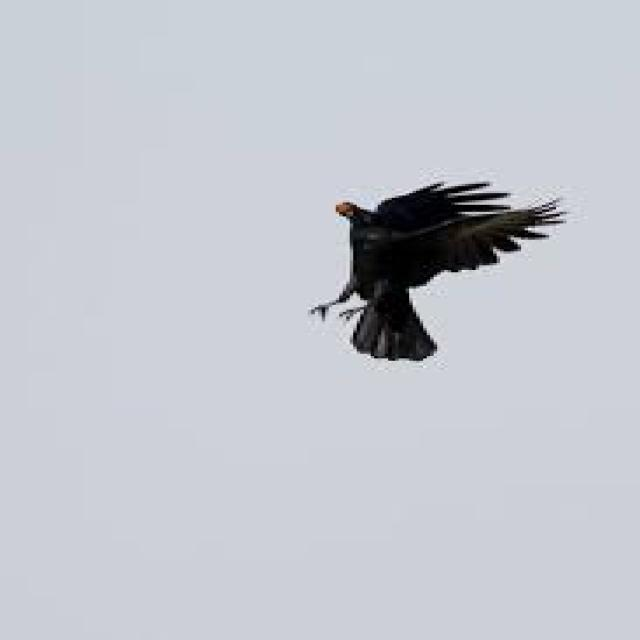bird: (282, 164, 572, 380)
